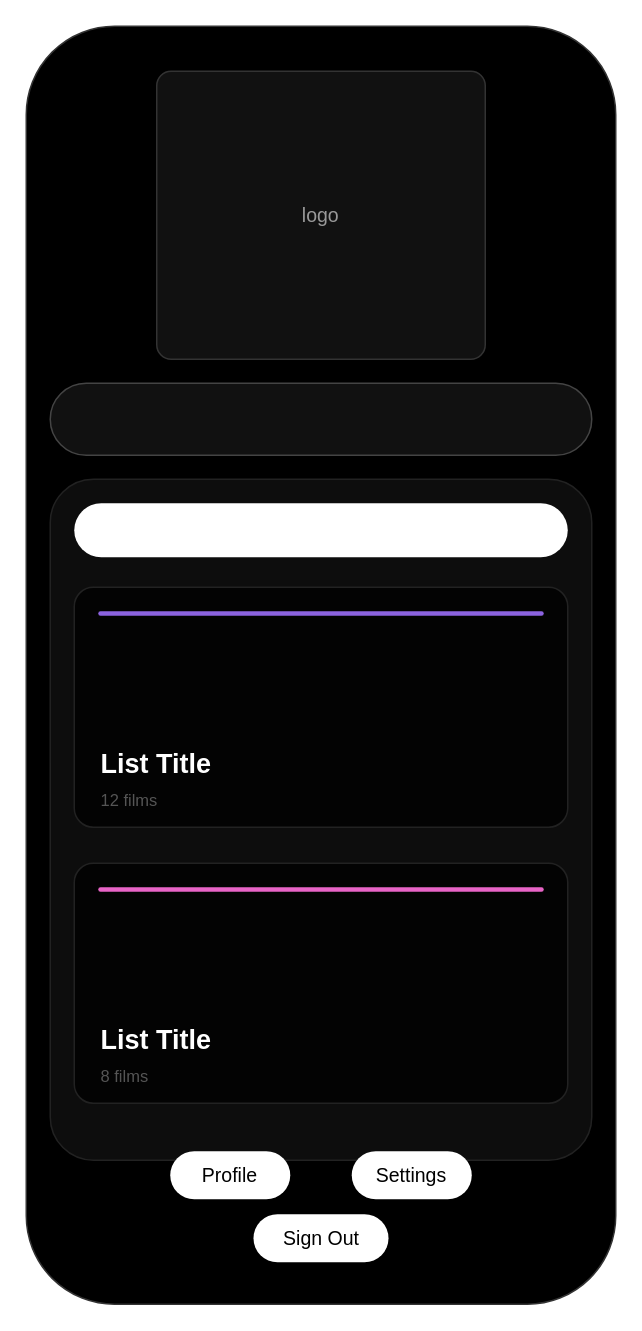
The diagram is 642 pixels wide and 1331 high, and some of its shapes have lost their labels. Each missing label, with the centre of its shape:
+ New List: point 320,529
🔍 Search films...: point 320,418
